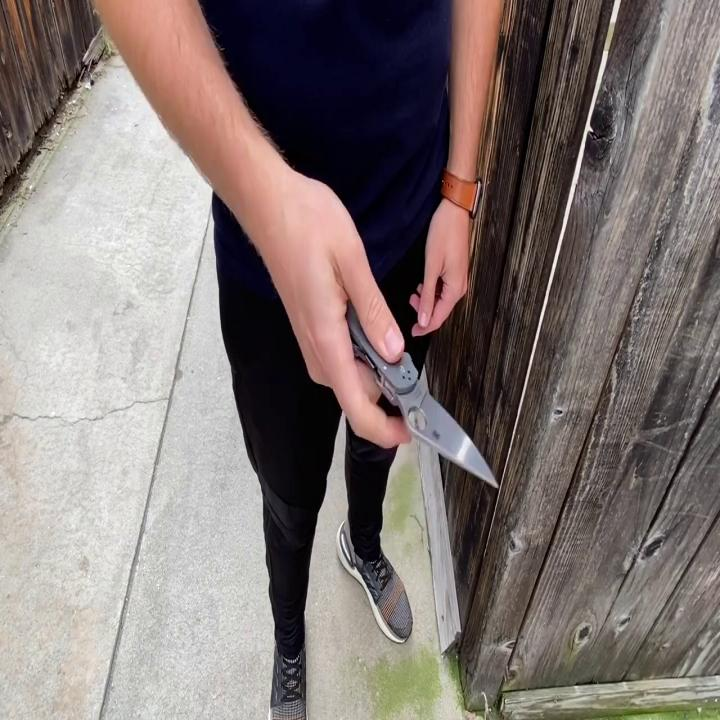knife: (342, 293, 504, 497)
